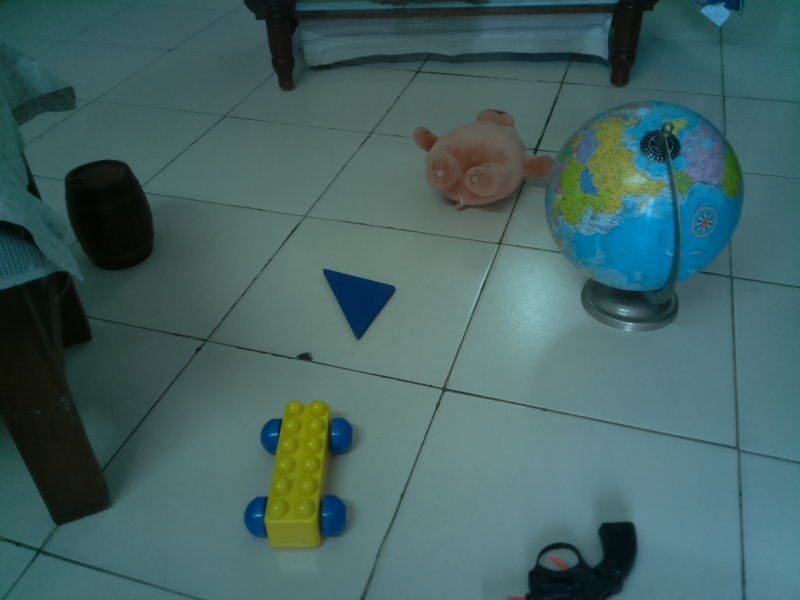Gun: (506, 519, 640, 597)
Triangle: (324, 269, 399, 342)
toy_Car: (245, 397, 357, 551)
